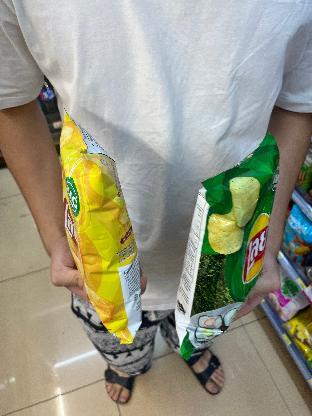Plastic Packaging: (161, 128, 291, 362), (53, 102, 153, 341)
